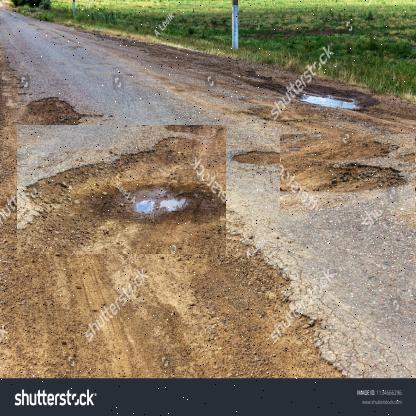pothole: (18, 125, 228, 255), (280, 134, 416, 211)
